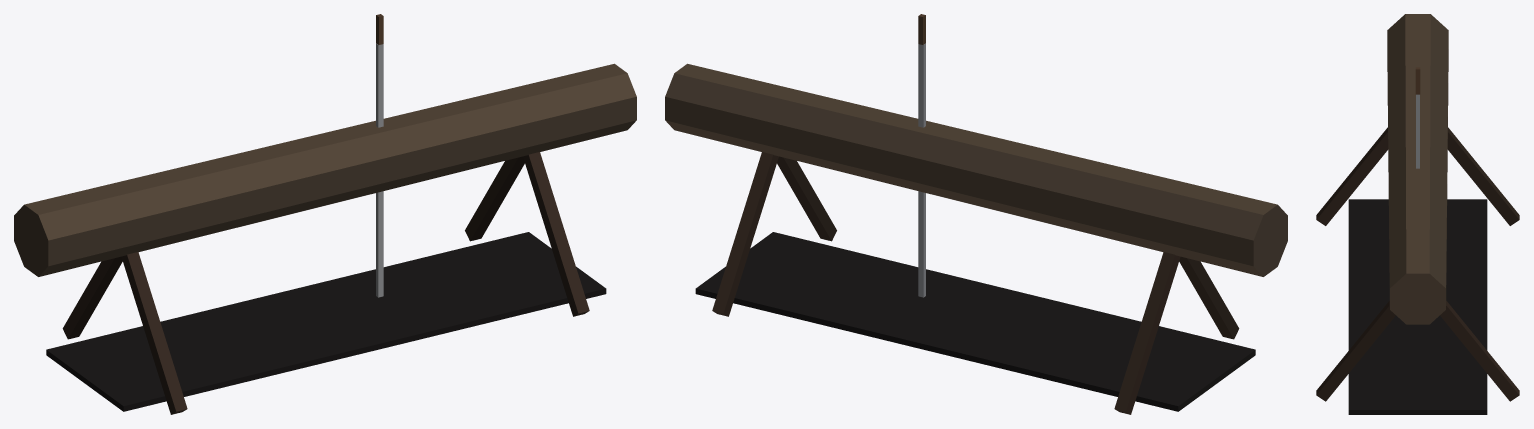
The model's file is walk_prop_sawpit.glb.
The picture shows the model from 3 angles, left to right: view 1: azimuth 30°, elevation 25°; view 2: azimuth 150°, elevation 25°; view 3: azimuth 270°, elevation 25°; orthographic projection. The views are drawn at different scales.
Parts seen in each view (by area): view 1: walk_prop_sawpit; view 2: walk_prop_sawpit; view 3: walk_prop_sawpit.
Boxes of the visible parts, x1=… form: walk_prop_sawpit: x1=14, y1=14, x2=636, y2=414; walk_prop_sawpit: x1=665, y1=14, x2=1287, y2=414; walk_prop_sawpit: x1=1316, y1=14, x2=1519, y2=414.
Size of what is drawn, in the model's own units: 4.4 by 2.13 by 1.47.
2 materials, 2 textured.
